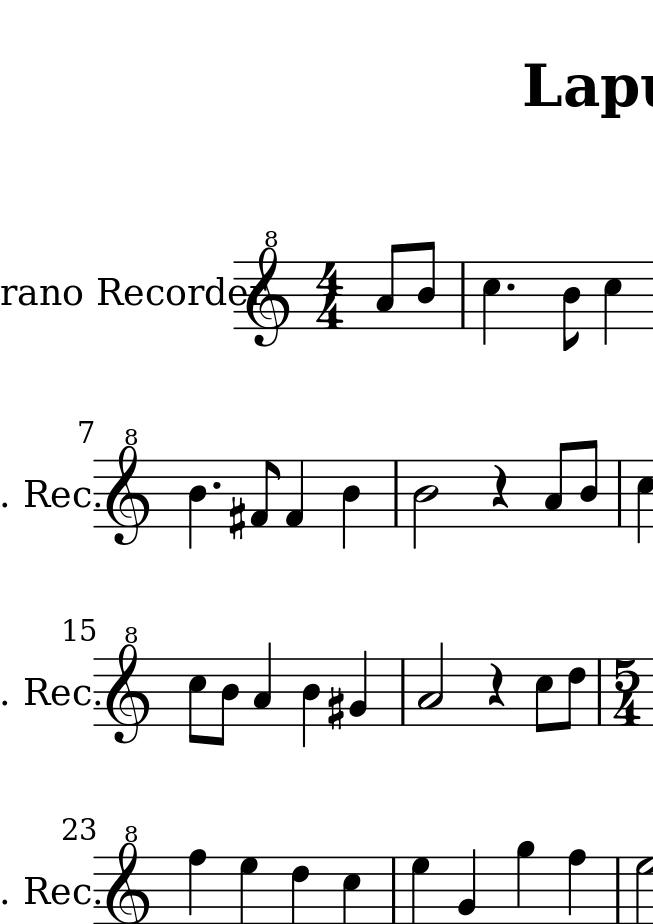1: (63, 617, 76, 644)
2: (61, 816, 76, 841)
2_3: (416, 640, 446, 728)
2_4: (412, 457, 442, 552)
2_7: (630, 853, 653, 924)
3: (79, 815, 97, 844)
4: (311, 295, 349, 329), (611, 692, 644, 727), (313, 262, 346, 295)
4_1: (284, 457, 306, 529)
4_2: (457, 848, 480, 924), (347, 650, 368, 726)
4_3: (251, 640, 274, 728)
4_4: (299, 657, 321, 754), (186, 458, 208, 552), (340, 457, 360, 548)
4_5: (480, 259, 502, 350), (601, 259, 623, 349), (633, 460, 653, 543)
4_7: (409, 852, 434, 924), (239, 855, 261, 924)
4_8: (187, 847, 210, 924), (567, 846, 588, 924)
4_9: (514, 838, 540, 924)
5: (611, 657, 642, 692), (80, 615, 96, 643)
7: (78, 419, 94, 445)
8_1: (248, 457, 281, 527)
8_3: (374, 242, 402, 331), (542, 441, 569, 530)
8_4: (212, 657, 242, 749), (560, 259, 582, 352), (418, 240, 437, 331), (580, 438, 599, 529)
8_5: (185, 656, 207, 747), (532, 656, 554, 737)
8_6: (560, 657, 590, 734)
High_Gclef: (103, 427, 151, 550), (104, 625, 153, 744), (247, 227, 293, 347)
Rec: (24, 675, 93, 708), (21, 875, 92, 907), (23, 477, 92, 509), (97, 276, 165, 307)
Rests4: (489, 463, 510, 508), (487, 662, 505, 707)
Sharp: (325, 686, 348, 732), (226, 498, 246, 543)
Single_barline: (610, 856, 628, 923), (385, 858, 403, 923), (387, 460, 404, 527), (590, 657, 607, 724), (612, 460, 628, 527), (396, 658, 412, 724), (455, 263, 471, 328)
TimeSig: (315, 260, 348, 327), (611, 660, 644, 726)
dot: (503, 279, 518, 295), (209, 480, 222, 492)
